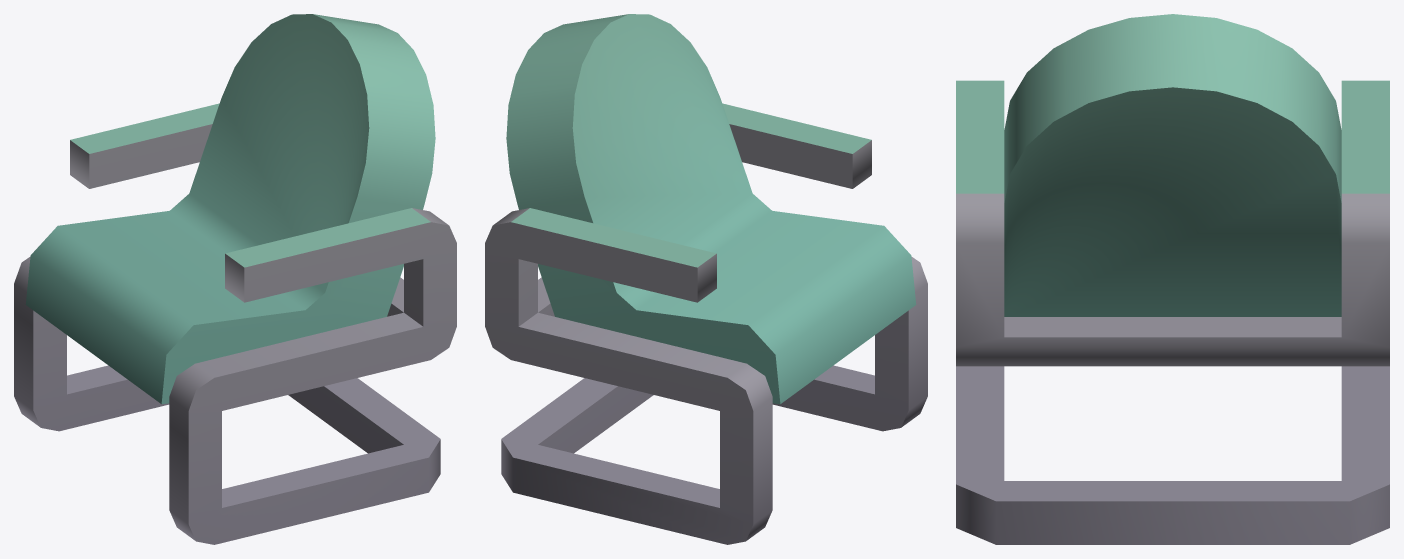
File: comfy-chair-metal-round.glb
3 renders of one model, left to right at view 1: azimuth 30°, elevation 25°; view 2: azimuth 150°, elevation 25°; view 3: azimuth 270°, elevation 25°, orthographic. The views are drawn at different scales.
Parts seen in each view (by area): view 1: comfy-chair-metal-round; view 2: comfy-chair-metal-round; view 3: comfy-chair-metal-round.
Boxes of the visible parts, x1,y1,x2,y2 form: comfy-chair-metal-round: [14, 14, 456, 544]; comfy-chair-metal-round: [485, 14, 927, 544]; comfy-chair-metal-round: [956, 14, 1389, 544].
Size of the model in its own units: 0.5446 by 0.6991 by 0.5411.
